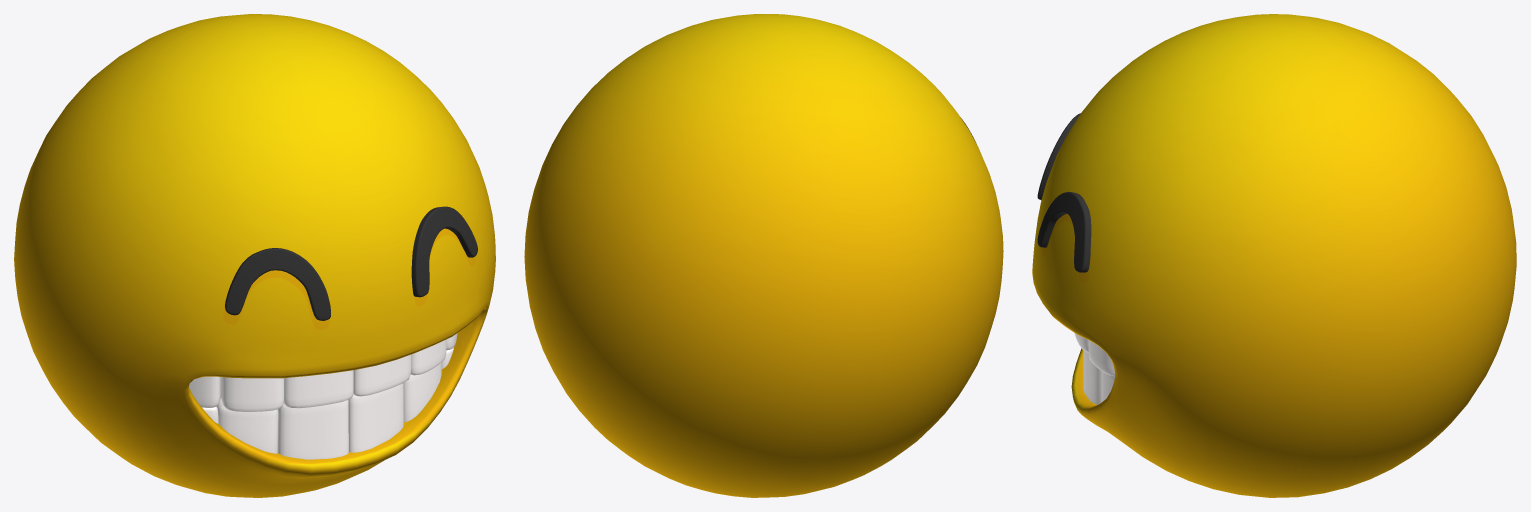
Rendered from happy_face_emogi.glb.
3 views of the same model, side by side, from view 1: azimuth 30°, elevation 25°; view 2: azimuth 150°, elevation 25°; view 3: azimuth 270°, elevation 25° (orthographic).
Visible parts, largest first — view 1: polySurface1.1; view 2: polySurface1.1; view 3: polySurface1.1.
Boxes of the visible parts, x1=… form: polySurface1.1: x1=14, y1=14, x2=495, y2=497; polySurface1.1: x1=524, y1=14, x2=1003, y2=497; polySurface1.1: x1=1032, y1=14, x2=1516, y2=497.
Bounding box in the file's own units: 0.0162 × 0.0164 × 0.0164.
Materials: 1 (1 with a texture image).
